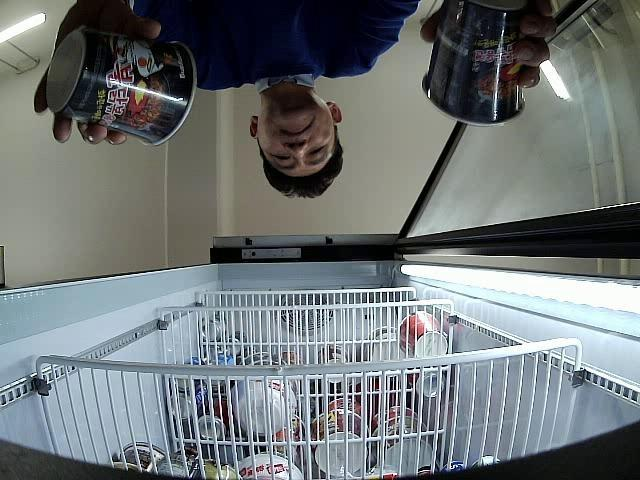08_buldak_S: (45, 29, 196, 146), (422, 0, 526, 126)
